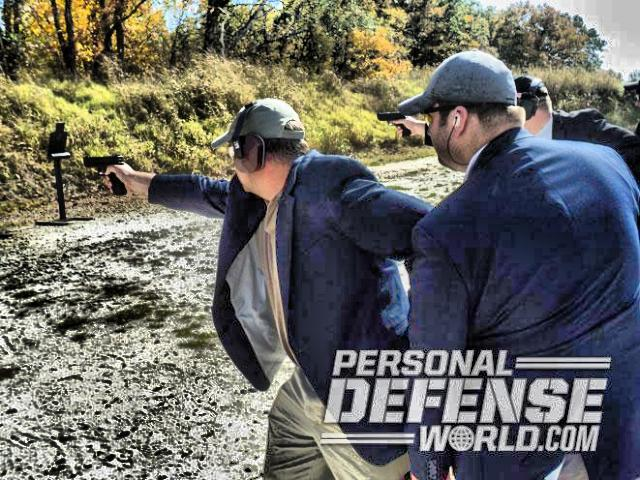pistol: (82, 152, 130, 198)
